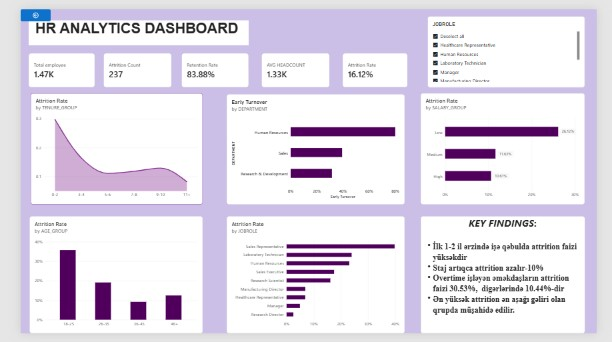

What the dashboard file says about the page in this screenshot:
{"tool":"powerbi","page":{"name":"Page 1","canvas":[1920,1080],"ordinal":0},"visuals":[{"type":"textbox","box":[26.7,36.7,733.3,83.3],"z":0},{"type":"textbox","box":[1334.7,36.7,104.1,75.5],"z":1000},{"type":"textbox","box":[634.7,484.3,699.1,167],"z":2000},{"type":"cardVisual","title":"Total employee","fields":{"Data":["SUM ATTRITION.Total employee"]},"box":[26.7,146.7,220,113.3],"z":3000},{"type":"cardVisual","fields":{"Data":["SUM ATTRITION.Sum of attrition"]},"box":[276.7,146.7,226.7,113.3],"z":4000},{"type":"cardVisual","fields":{"Data":["SUM ATTRITION.Retention Rate"]},"box":[536.7,146.7,223.3,113.3],"z":5000},{"type":"cardVisual","fields":{"Data":["SUM ATTRITION.ORTA HEADCOUNT"]},"box":[803.3,146.7,226.7,113.3],"z":6000},{"type":"cardVisual","fields":{"Data":["SUM ATTRITION.Attrition Rate"]},"box":[1073.3,146.7,216.7,113.3],"z":7000},{"type":"barChart","fields":{"Category":["hr_clean_data.JOBROLE"],"Y":["SUM ATTRITION.Attrition Rate"]},"box":[686.7,690,593.3,390],"z":8000},{"type":"areaChart","fields":{"Category":["hr_clean_data.TENURE_GROUP"],"Y":["SUM ATTRITION.Attrition Rate"]},"box":[33.3,280,573.3,370],"z":9000},{"type":"columnChart","fields":{"Category":["hr_clean_data.AGE_GROUP"],"Y":["SUM ATTRITION.Attrition Rate"]},"box":[30,690,576.7,390],"z":10000},{"type":"listSlicer","fields":{"Values":["hr_clean_data.JOBROLE"]},"box":[1356.7,23.3,523.3,236.7],"z":11000},{"type":"barChart","fields":{"Category":["hr_clean_data.DEPARTMENT"],"Y":["hr_clean_data.Early Tunover"]},"box":[686.7,283.3,593.3,366.7],"z":12000},{"type":"clusteredBarChart","fields":{"Category":["hr_clean_data.SALARY_GROUP"],"Y":["SUM ATTRITION.Attrition Rate"]},"box":[1333.3,280,546.7,370],"z":13000},{"type":"actionButton","box":[0,0,100,40],"z":14001},{"type":"textbox","box":[1333,690,547,390],"z":14002}]}

Visuals, with their boxes in screenshot pixels (x1, y1, x2, y2), scaled from the page's 1920x1080 canvas onto the 612x342 screenshot:
textbox: 9:12:242:38
textbox: 425:12:459:36
textbox: 202:153:425:206
"Total employee" cardVisual: 9:46:79:82
cardVisual - SUM ATTRITION.Sum of attrition: 88:46:160:82
cardVisual - SUM ATTRITION.Retention Rate: 171:46:242:82
cardVisual - SUM ATTRITION.ORTA HEADCOUNT: 256:46:328:82
cardVisual - SUM ATTRITION.Attrition Rate: 342:46:411:82
barChart - hr_clean_data.JOBROLE x SUM ATTRITION.Attrition Rate: 219:218:408:341
areaChart - hr_clean_data.TENURE_GROUP x SUM ATTRITION.Attrition Rate: 11:89:193:206
columnChart - hr_clean_data.AGE_GROUP x SUM ATTRITION.Attrition Rate: 10:218:193:341
listSlicer - hr_clean_data.JOBROLE: 432:7:599:82
barChart - hr_clean_data.DEPARTMENT x hr_clean_data.Early Tunover: 219:90:408:206
clusteredBarChart - hr_clean_data.SALARY_GROUP x SUM ATTRITION.Attrition Rate: 425:89:599:206
actionButton: 0:0:32:13
textbox: 425:218:599:341
